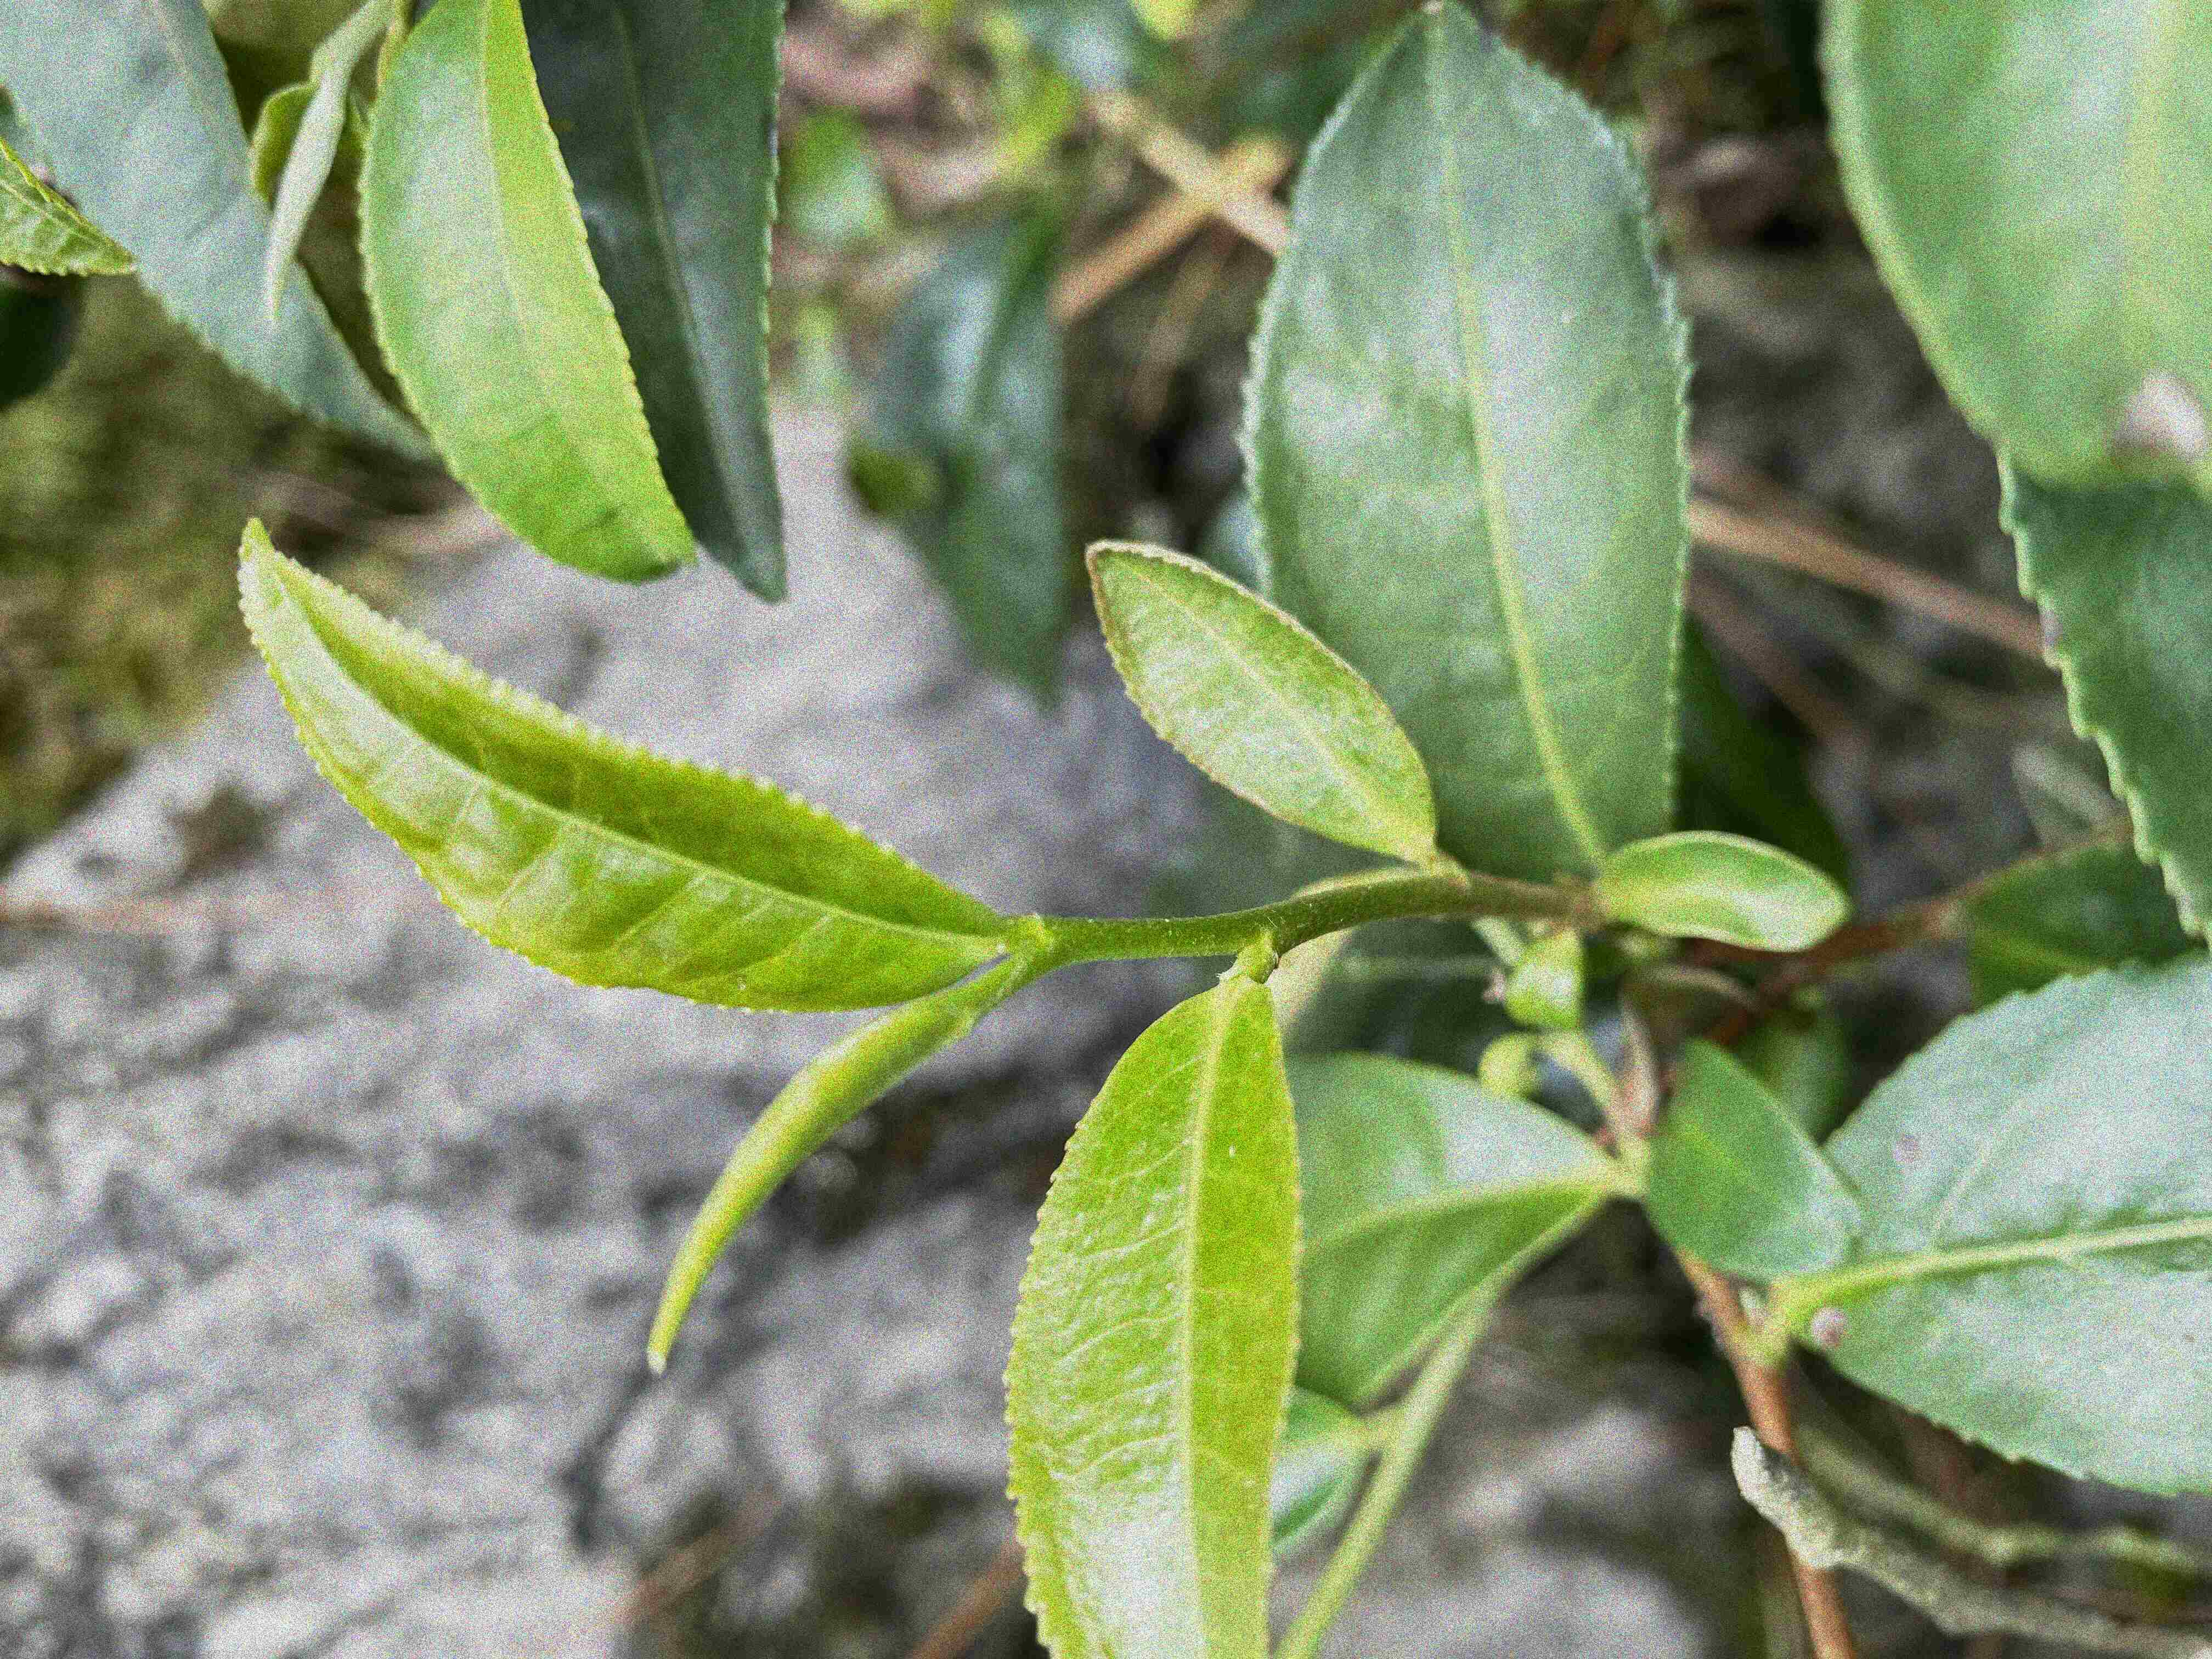healthy: (232, 511, 1007, 1018), (996, 981, 1303, 1657), (352, 2, 702, 587)
tanju_low: (1082, 532, 1439, 861)
